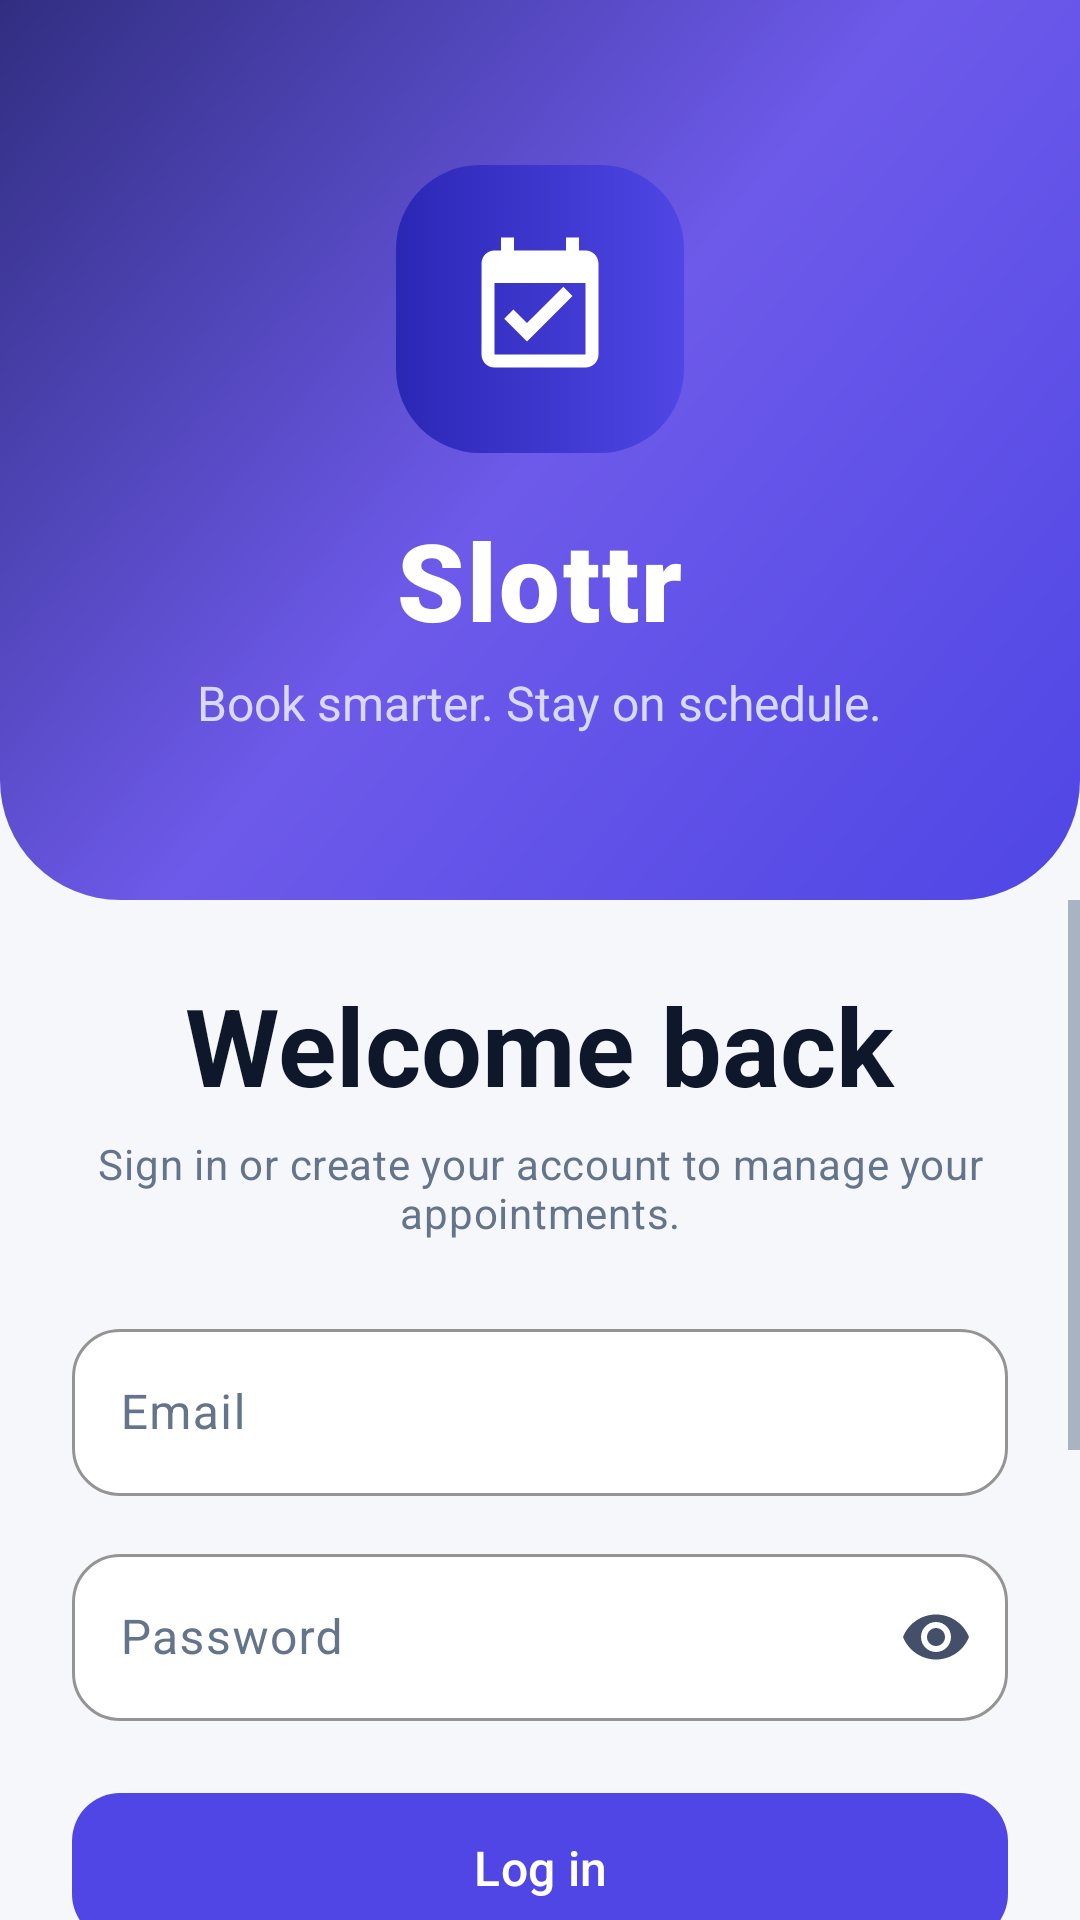

Point at icon controls on the screen. Image size 1080px x 1920px, points as [x,y].
calendar check: [540,309]
